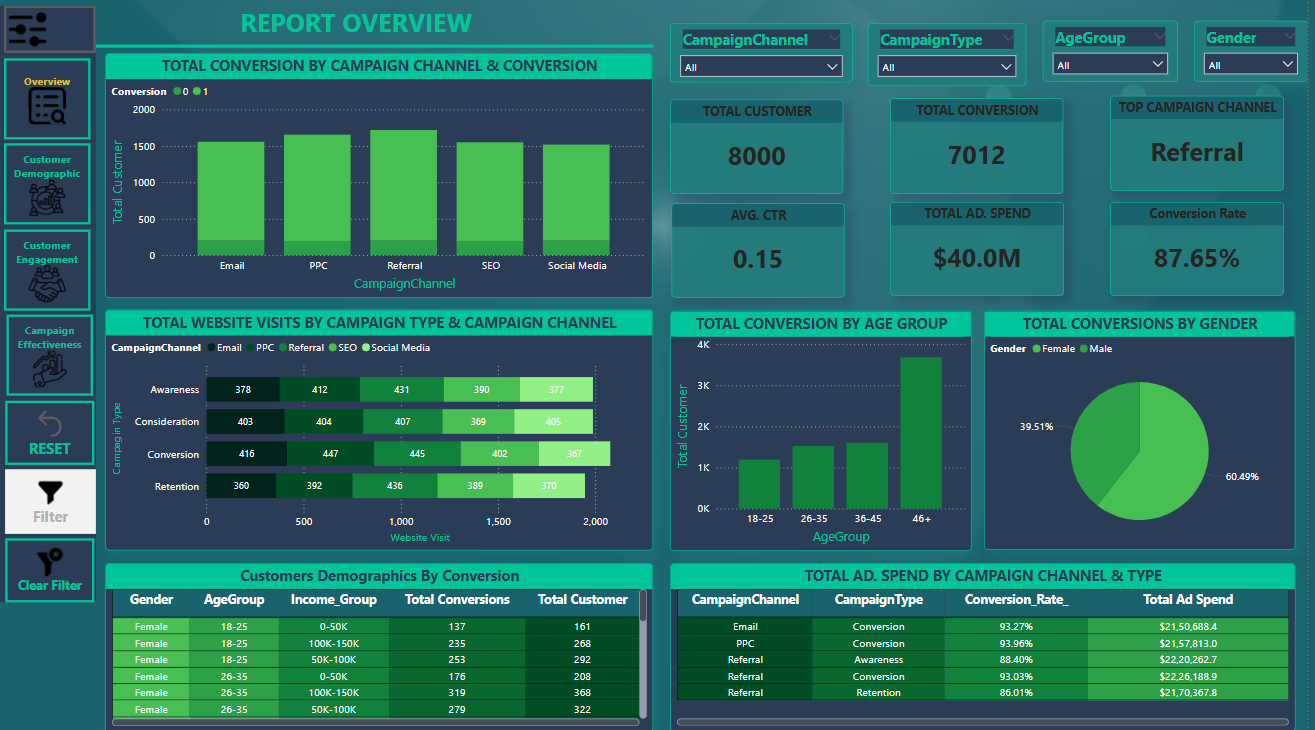

The dashboard page shown, as its layout file describes it:
{"tool":"powerbi","page":{"name":"Report Overview","canvas":[1664,936],"ordinal":0},"visuals":[{"type":"shape","box":[0,11.7,123.3,758.3],"z":0},{"type":"card","title":"Conversion Rate","fields":{"Values":["digital_marketing_campaign_dataset.Overall Conversion Rate"]},"box":[1413.2,260.7,221,119.2],"z":1000},{"type":"card","title":"TOP CAMPAIGN CHANNEL","fields":{"Values":["digital_marketing_campaign_dataset.Top Channel"]},"box":[1413.2,125.6,221,120.8],"z":2000},{"type":"card","title":"TOTAL CUSTOMER","fields":{"Values":["digital_marketing_campaign_dataset.Total Customer"]},"box":[853.3,130,220,120],"z":3000},{"type":"card","title":"TOTAL AD. SPEND","fields":{"Values":["digital_marketing_campaign_dataset.Total Ad Spend"]},"box":[1133.4,260.7,221,119.2],"z":4000},{"type":"card","title":"TOTAL CONVERSION","fields":{"Values":["digital_marketing_campaign_dataset.Total Conversions"]},"box":[1133.3,128.3,220,121.7],"z":5000},{"type":"card","title":"AVG. CTR","fields":{"Values":["digital_marketing_campaign_dataset.Avg CTR"]},"box":[855,261.7,220,120],"z":6000},{"type":"slicer","title":"AGE GROUP","fields":{"Values":["digital_marketing_campaign_dataset.AgeGroup"]},"box":[278.3,566.7,173.3,76.7],"z":7000},{"type":"columnChart","title":"TOTAL CONVERSION BY CAMPAIGN CHANNEL & CONVERSION","fields":{"Category":["digital_marketing_campaign_dataset.CampaignChannel"],"Series":["digital_marketing_campaign_dataset.Conversion"],"Y":["digital_marketing_campaign_dataset.Total Customer"]},"box":[135.4,72,696.3,311],"z":8000},{"type":"pieChart","title":"TOTAL CONVERSIONS BY GENDER","fields":{"Category":["digital_marketing_campaign_dataset.Gender"],"Y":["digital_marketing_campaign_dataset.Total Customer"]},"box":[1252.7,399,395.8,303.6],"z":9000},{"type":"columnChart","title":"TOTAL  CONVERSION BY AGE GROUP","fields":{"Category":["digital_marketing_campaign_dataset.AgeGroup"],"Y":["digital_marketing_campaign_dataset.Total Customer"]},"box":[853.7,399,383.1,305.2],"z":10000},{"type":"barChart","title":"TOTAL WEBSITE VISITS BY CAMPAIGN TYPE & CAMPAIGN CHANNEL","fields":{"Category":["digital_marketing_campaign_dataset.CampaignType"],"Y":["CountNonNull(digital_marketing_campaign_dataset.WebsiteVisits)"],"Series":["digital_marketing_campaign_dataset.CampaignChannel"]},"box":[135,396.7,696.7,306.7],"z":11000},{"type":"tableEx","title":"Customers  Demographics By Conversion","fields":{"Values":["digital_marketing_campaign_dataset.Gender","digital_marketing_campaign_dataset.AgeGroup","digital_marketing_campaign_dataset.Income_Group","digital_marketing_campaign_dataset.Total Conversions","digital_marketing_campaign_dataset.Total Customer"]},"box":[135,720,696.7,215],"z":12000},{"type":"actionButton","title":"enga.","box":[6.7,295.2,110,103.3],"z":13000},{"type":"actionButton","title":"Camp","box":[10,404.1,110,103.3],"z":14000},{"type":"actionButton","title":"Demog.","box":[6.7,186.2,110,103.3],"z":15000},{"type":"slicer","fields":{"Values":["digital_marketing_campaign_dataset.AgeGroup"]},"box":[1327.6,30.2,171.7,77.9],"z":16000},{"type":"slicer","fields":{"Values":["digital_marketing_campaign_dataset.CampaignChannel"]},"box":[853.3,33.3,231.7,75],"z":17000},{"type":"slicer","fields":{"Values":["digital_marketing_campaign_dataset.CampaignType"]},"box":[1105.5,33.3,201.7,80],"z":18000},{"type":"shape","box":[121.7,51.7,710,20],"z":19000},{"type":"actionButton","title":"REset","box":[8.3,513,113.3,81.7],"z":20000},{"type":"actionButton","title":"Overview","box":[6.7,77.3,110,103.3],"z":21000},{"type":"actionButton","title":"Filter","box":[8.3,600.3,115,81.7],"z":22000},{"type":"actionButton","title":"Clear Filter","box":[8.3,687.6,113.3,81.7],"z":23000},{"type":"actionButton","title":"Menu","box":[6.7,11.7,116.7,60],"z":24000},{"type":"shape","box":[116.7,0,676.7,61.7],"z":25000},{"type":"tableEx","title":"TOTAL AD. SPEND BY CAMPAIGN CHANNEL & TYPE","fields":{"Values":["digital_marketing_campaign_dataset.CampaignChannel","digital_marketing_campaign_dataset.CampaignType","digital_marketing_campaign_dataset.Conversion_Rate_","digital_marketing_campaign_dataset.Total Ad Spend"]},"box":[853.7,720.1,794.8,214.6],"z":26000},{"type":"slicer","fields":{"Values":["digital_marketing_campaign_dataset.Gender"]},"box":[1519.3,30.2,144.7,77.9],"z":27000}]}

Visuals, with their boxes on the page's 1664x936 design canvas (x1, y1, x2, y2). These are canvas units, not pixel positions in the 1315x730 screenshot, which may show the page scaled, cropped or inside an application window:
shape: [x1=0, y1=12, x2=123, y2=770]
"Conversion Rate" card: [x1=1413, y1=261, x2=1634, y2=380]
"TOP CAMPAIGN CHANNEL" card: [x1=1413, y1=126, x2=1634, y2=246]
"TOTAL CUSTOMER" card: [x1=853, y1=130, x2=1073, y2=250]
"TOTAL AD. SPEND" card: [x1=1133, y1=261, x2=1354, y2=380]
"TOTAL CONVERSION" card: [x1=1133, y1=128, x2=1353, y2=250]
"AVG. CTR" card: [x1=855, y1=262, x2=1075, y2=382]
"AGE GROUP" slicer: [x1=278, y1=567, x2=452, y2=643]
"TOTAL CONVERSION BY CAMPAIGN CHANNEL & CONVERSION" columnChart: [x1=135, y1=72, x2=832, y2=383]
"TOTAL CONVERSIONS BY GENDER" pieChart: [x1=1253, y1=399, x2=1648, y2=703]
"TOTAL  CONVERSION BY AGE GROUP" columnChart: [x1=854, y1=399, x2=1237, y2=704]
"TOTAL WEBSITE VISITS BY CAMPAIGN TYPE & CAMPAIGN CHANNEL" barChart: [x1=135, y1=397, x2=832, y2=703]
"Customers  Demographics By Conversion" tableEx: [x1=135, y1=720, x2=832, y2=935]
"enga." actionButton: [x1=7, y1=295, x2=117, y2=398]
"Camp" actionButton: [x1=10, y1=404, x2=120, y2=507]
"Demog." actionButton: [x1=7, y1=186, x2=117, y2=290]
slicer - digital_marketing_campaign_dataset.AgeGroup: [x1=1328, y1=30, x2=1499, y2=108]
slicer - digital_marketing_campaign_dataset.CampaignChannel: [x1=853, y1=33, x2=1085, y2=108]
slicer - digital_marketing_campaign_dataset.CampaignType: [x1=1106, y1=33, x2=1307, y2=113]
shape: [x1=122, y1=52, x2=832, y2=72]
"REset" actionButton: [x1=8, y1=513, x2=122, y2=595]
"Overview" actionButton: [x1=7, y1=77, x2=117, y2=181]
"Filter" actionButton: [x1=8, y1=600, x2=123, y2=682]
"Clear Filter" actionButton: [x1=8, y1=688, x2=122, y2=769]
"Menu" actionButton: [x1=7, y1=12, x2=123, y2=72]
shape: [x1=117, y1=0, x2=793, y2=62]
"TOTAL AD. SPEND BY CAMPAIGN CHANNEL & TYPE" tableEx: [x1=854, y1=720, x2=1648, y2=935]
slicer - digital_marketing_campaign_dataset.Gender: [x1=1519, y1=30, x2=1664, y2=108]
